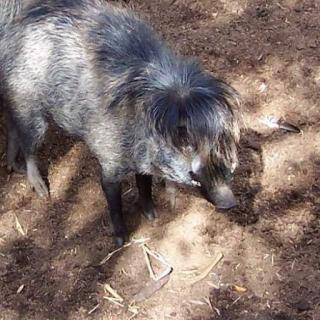Pig: (3, 0, 261, 244)
